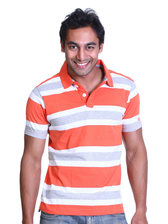clothoes: (25, 58, 144, 215)
